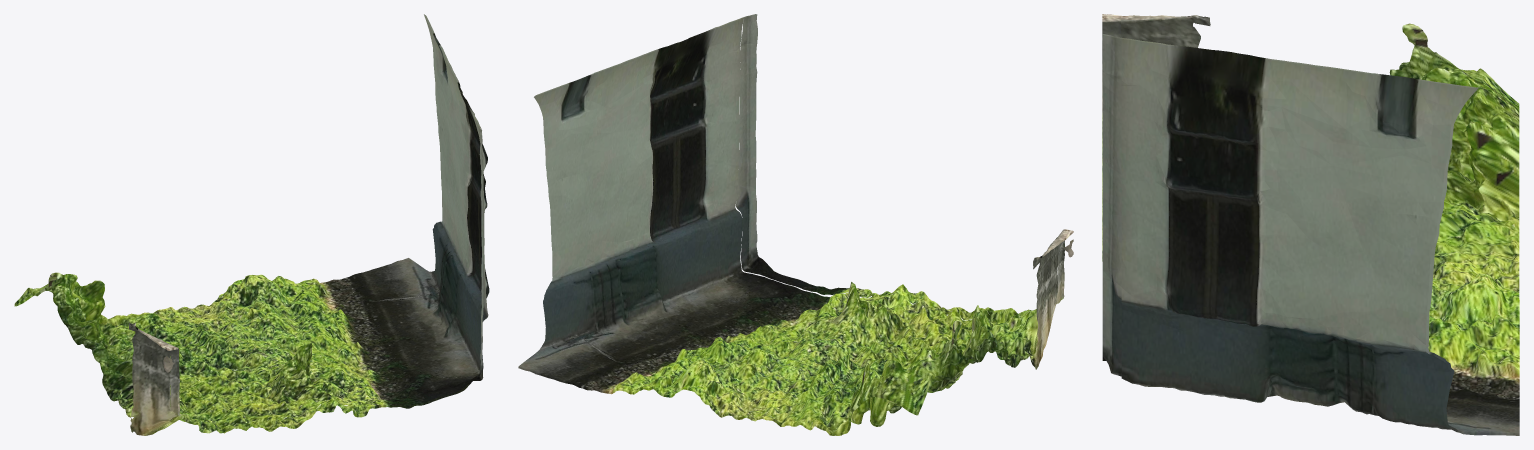
3 renders of one model, left to right at view 1: azimuth 30°, elevation 25°; view 2: azimuth 150°, elevation 25°; view 3: azimuth 270°, elevation 25°, orthographic. The views are drawn at different scales.
Parts seen in each view (by area): view 1: node_93; view 2: node_93; view 3: node_93.
Part boxes in pixels (bbox=[...]): node_93: bbox=[14, 14, 489, 435]; node_93: bbox=[518, 14, 1073, 435]; node_93: bbox=[1102, 14, 1519, 435].
Size of the model in its own units: 7.94 by 5.03 by 5.36.
Materials: 1 (1 with a texture image).
